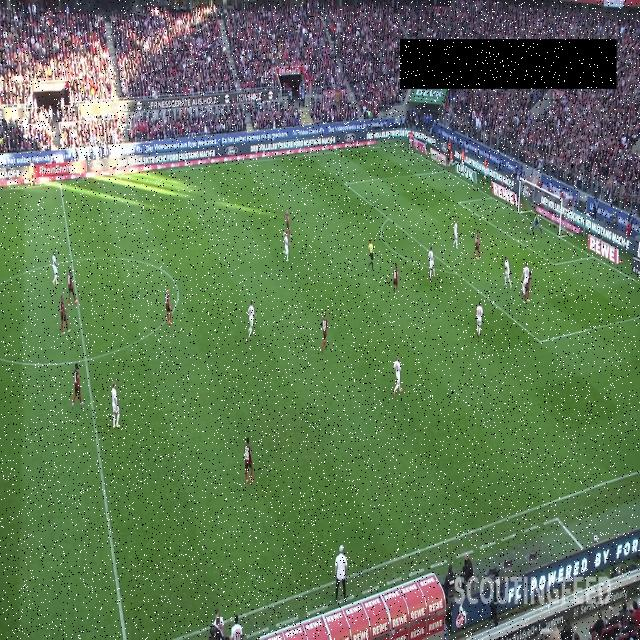Ball: (593, 534, 599, 542), (530, 225, 532, 232)
GoalKeeper: (519, 176, 575, 237)
Referee: (368, 238, 376, 272), (28, 161, 36, 186)
TEAM 1: (72, 362, 84, 409), (244, 436, 254, 484), (60, 294, 71, 336), (320, 312, 330, 353), (392, 262, 403, 298), (68, 268, 78, 307), (283, 208, 293, 239), (523, 270, 532, 304), (165, 286, 172, 325), (473, 228, 481, 261)
TEAM 2: (392, 356, 403, 396), (111, 381, 120, 429), (247, 300, 258, 338), (475, 300, 484, 338), (428, 246, 437, 282), (520, 262, 529, 297), (503, 256, 512, 290), (52, 250, 60, 286), (281, 231, 290, 263), (452, 218, 460, 250)
